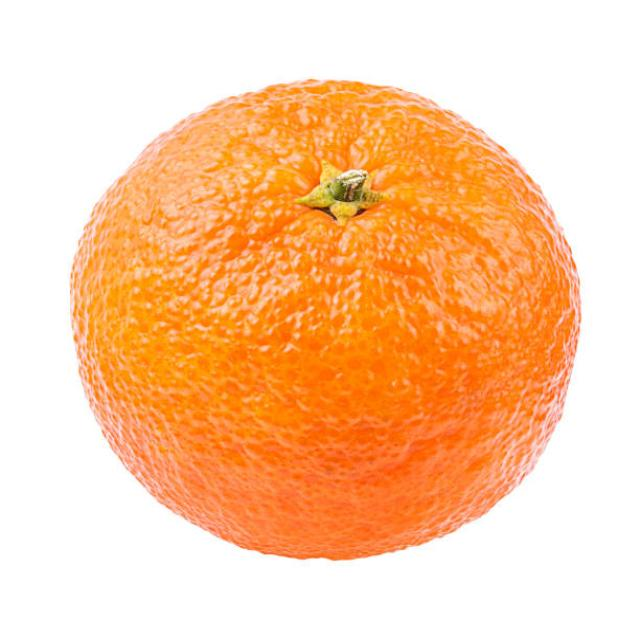Ripe: (68, 60, 586, 562)
